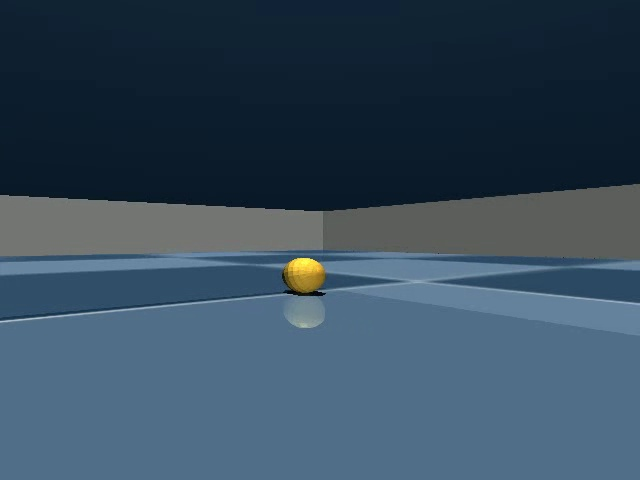lemon: (275, 253, 333, 302)
